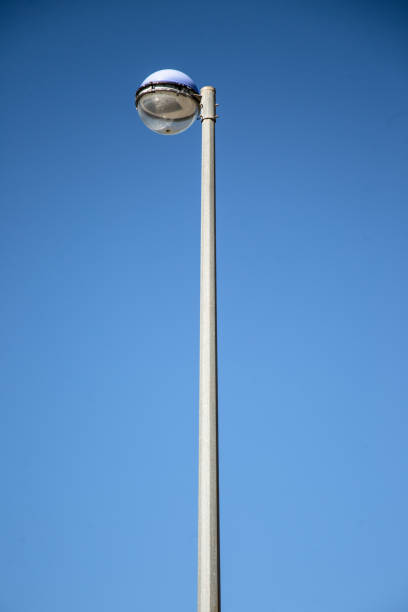light_pole: (194, 87, 219, 612)
